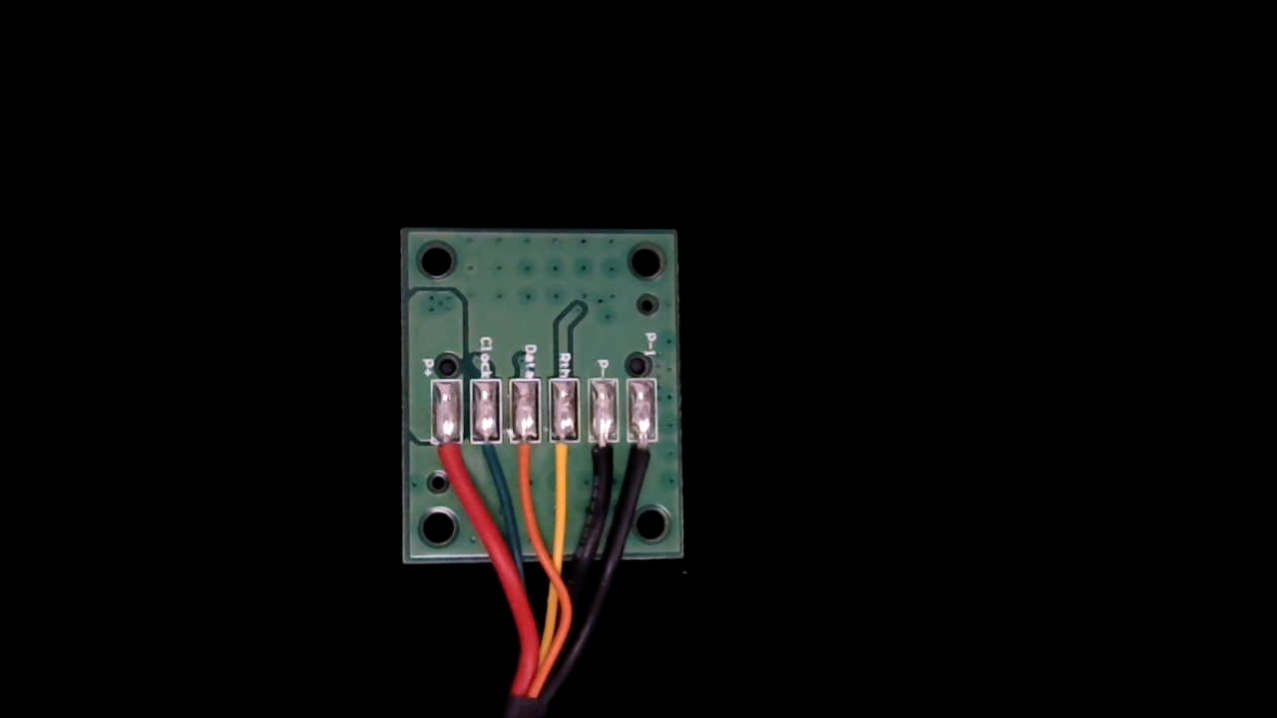Black: (587, 425, 622, 499)
Black1: (627, 425, 661, 493)
Green: (473, 424, 506, 488)
Orange: (508, 426, 542, 500)
Red: (428, 427, 463, 498)
Yellow: (547, 425, 581, 500)
